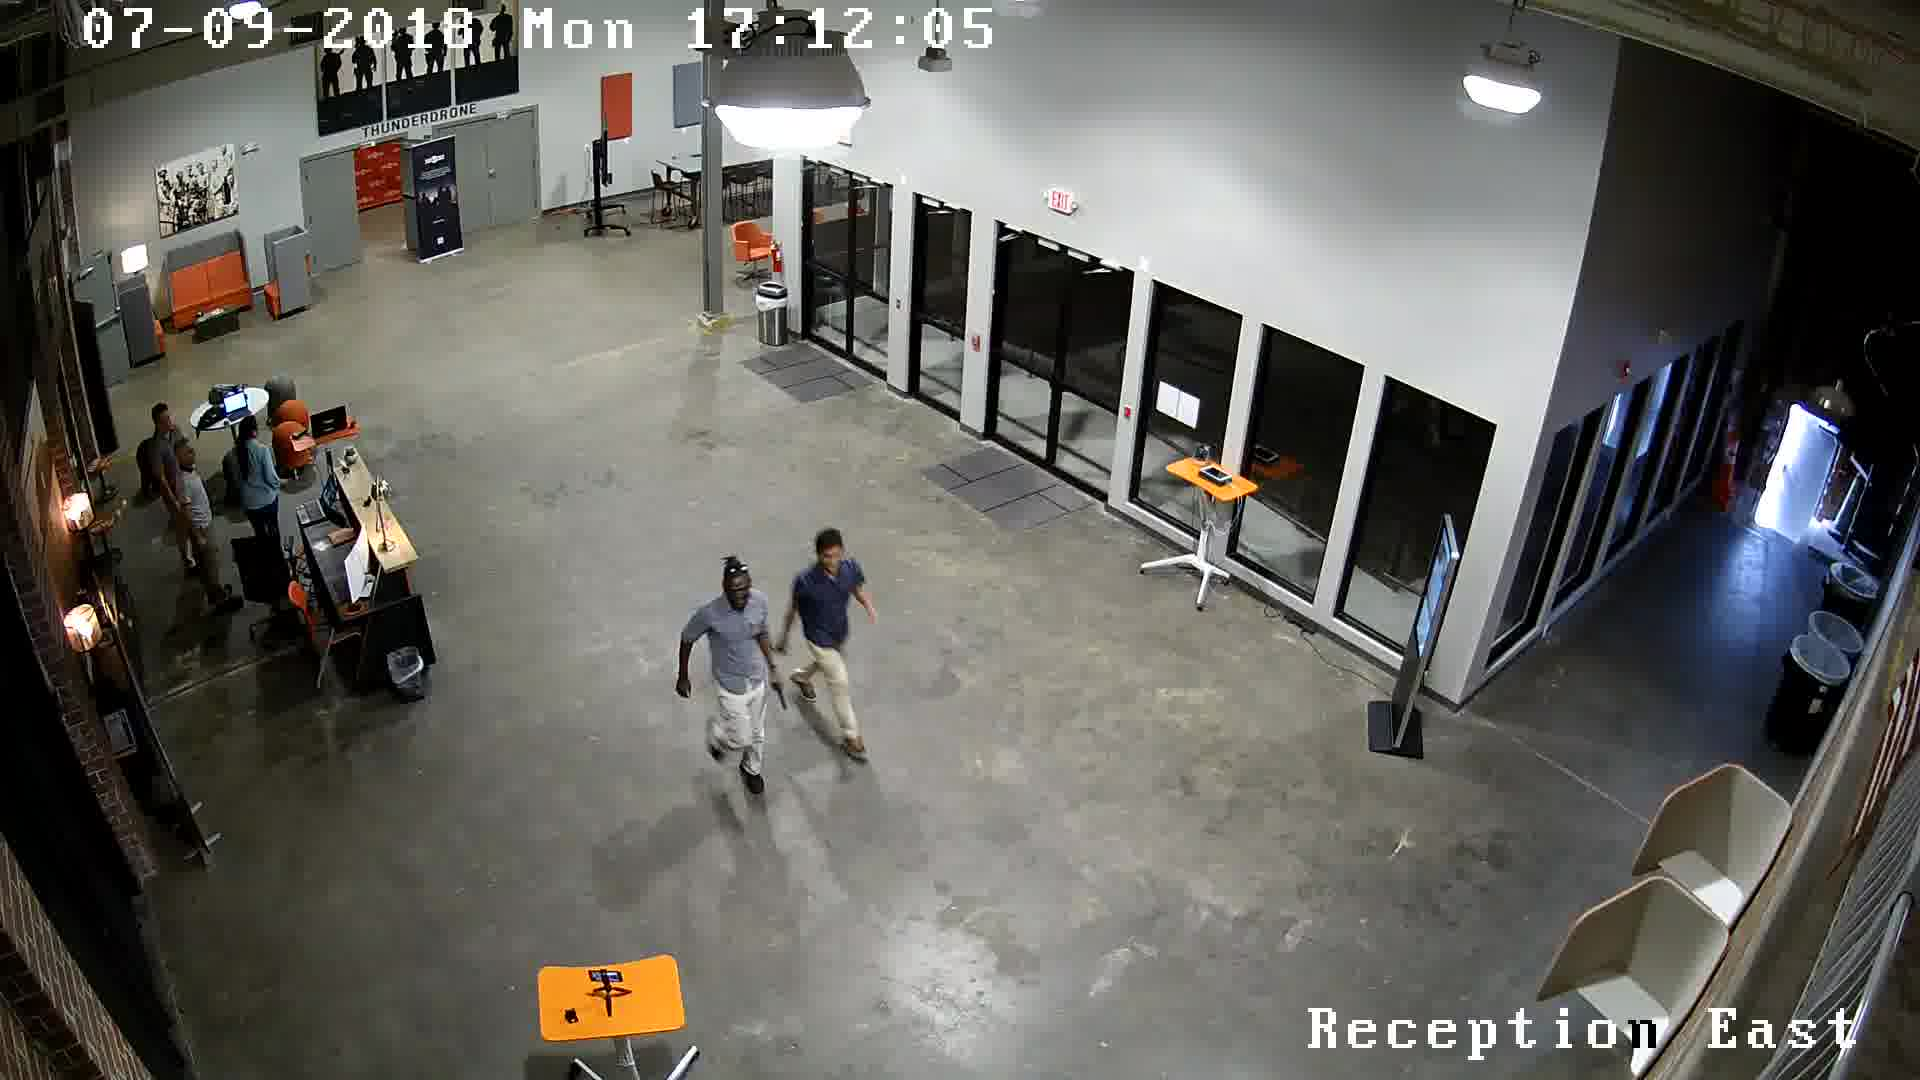pistol: (758, 669, 795, 721), (762, 630, 802, 659)
